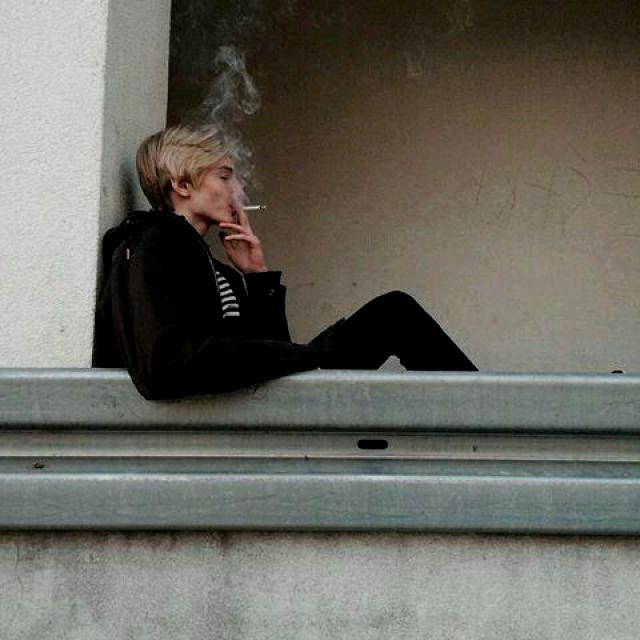smoke: (232, 184, 274, 214)
